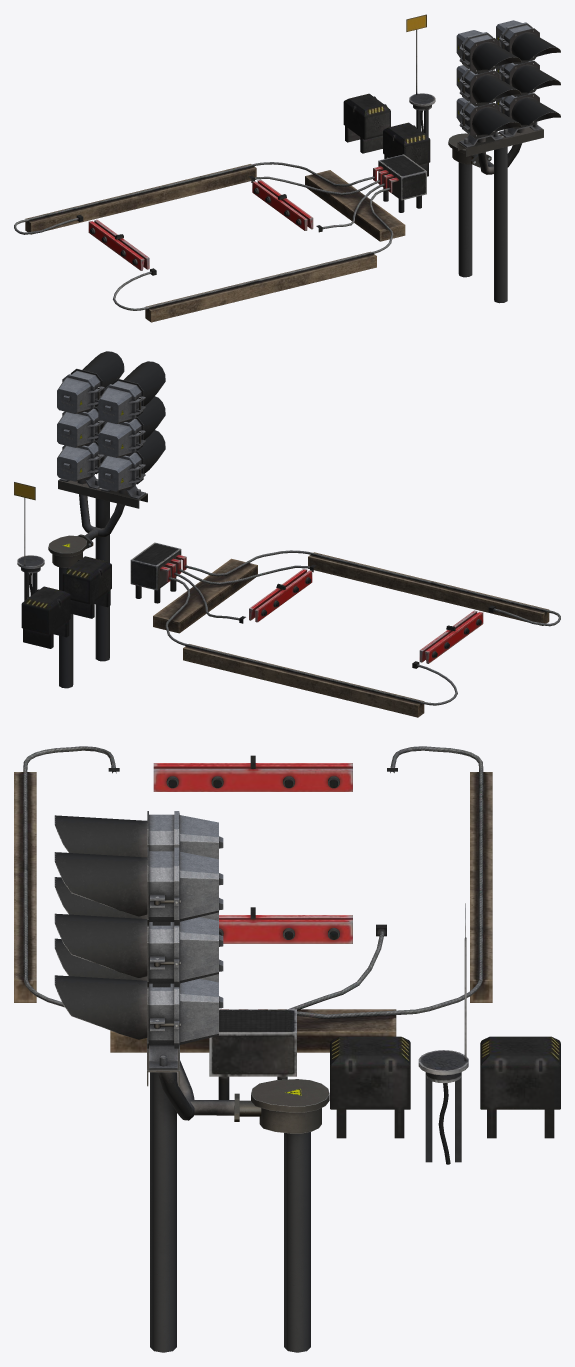
Rendered from RM_sig_P_KM1_3+3_exit.gltf.
3 renders of one model, top to bottom at view 1: azimuth 30°, elevation 25°; view 2: azimuth 150°, elevation 25°; view 3: azimuth 270°, elevation 25°, orthographic. The views are drawn at different scales.
Parts seen in each view (by area): view 1: Изостык, Cylinder001, Box002, Box003; view 2: Изостык, Box002, Box003, Cylinder001; view 3: Изостык, Box003, Cylinder001, Box002.
Boxes of the visible parts, left/top/right/bottom form: Изостык: left=14, top=14, right=435, bottom=322; Cylinder001: left=448, top=127, right=543, bottom=303; Box002: left=456, top=30, right=521, bottom=147; Box003: left=496, top=20, right=560, bottom=137; Изостык: left=14, top=482, right=560, bottom=717; Box002: left=98, top=361, right=165, bottom=499; Box003: left=57, top=351, right=124, bottom=489; Cylinder001: left=48, top=479, right=147, bottom=688; Изостык: left=14, top=746, right=560, bottom=1164; Box003: left=54, top=847, right=223, bottom=1069; Cylinder001: left=147, top=1038, right=329, bottom=1352; Box002: left=54, top=811, right=223, bottom=982.
Size of the model in its own units: 4.37 by 2.5 by 2.43.
2 materials, 2 textured.
